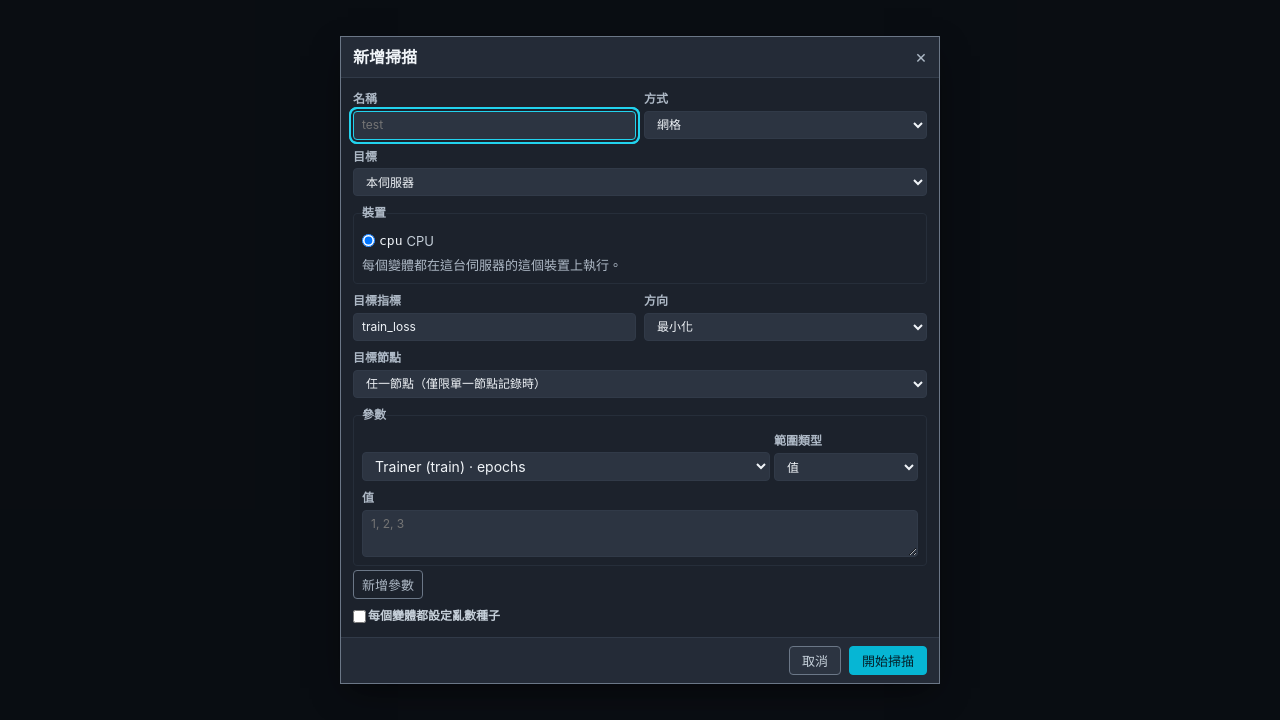
Scenario: NewSweepDialog › words its validation in the active language
The width and height of the screenshot is (1280, 720).
Type "2.5" into the text box labelled "值" at (640, 533), box [362,510,918,557]
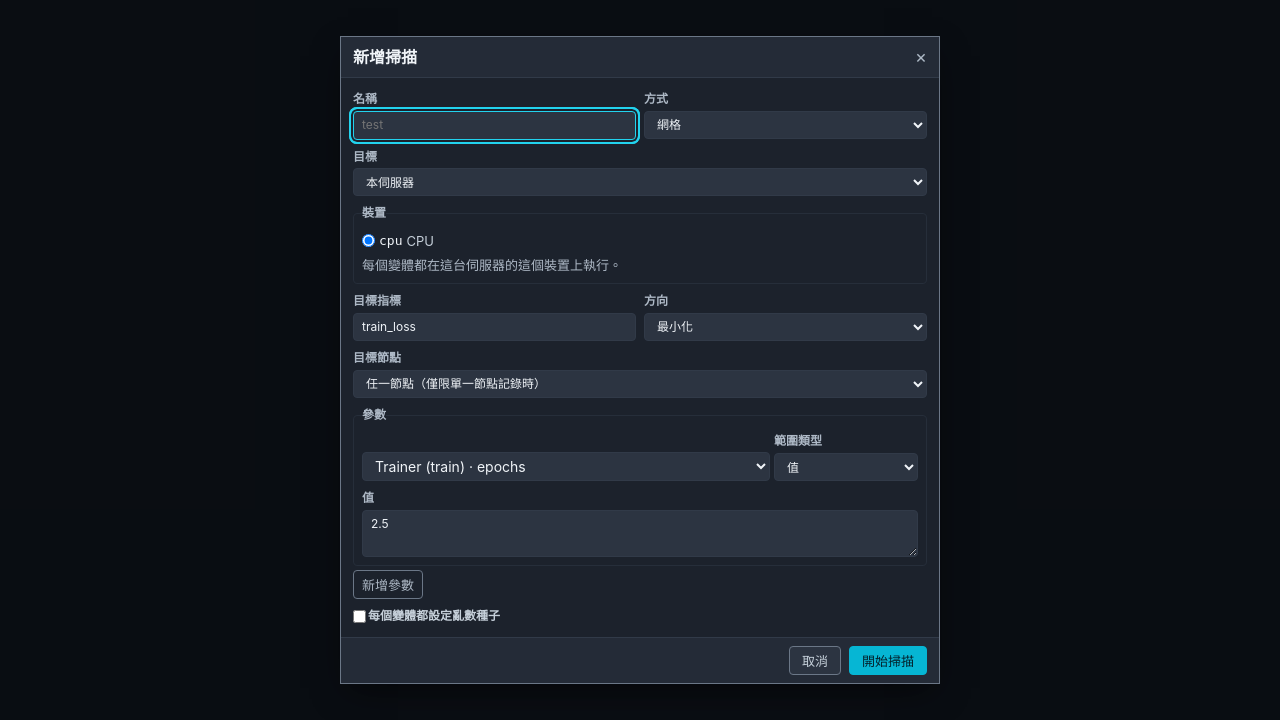
Click the button "開始掃描" at (888, 661), box [849,646,927,675]
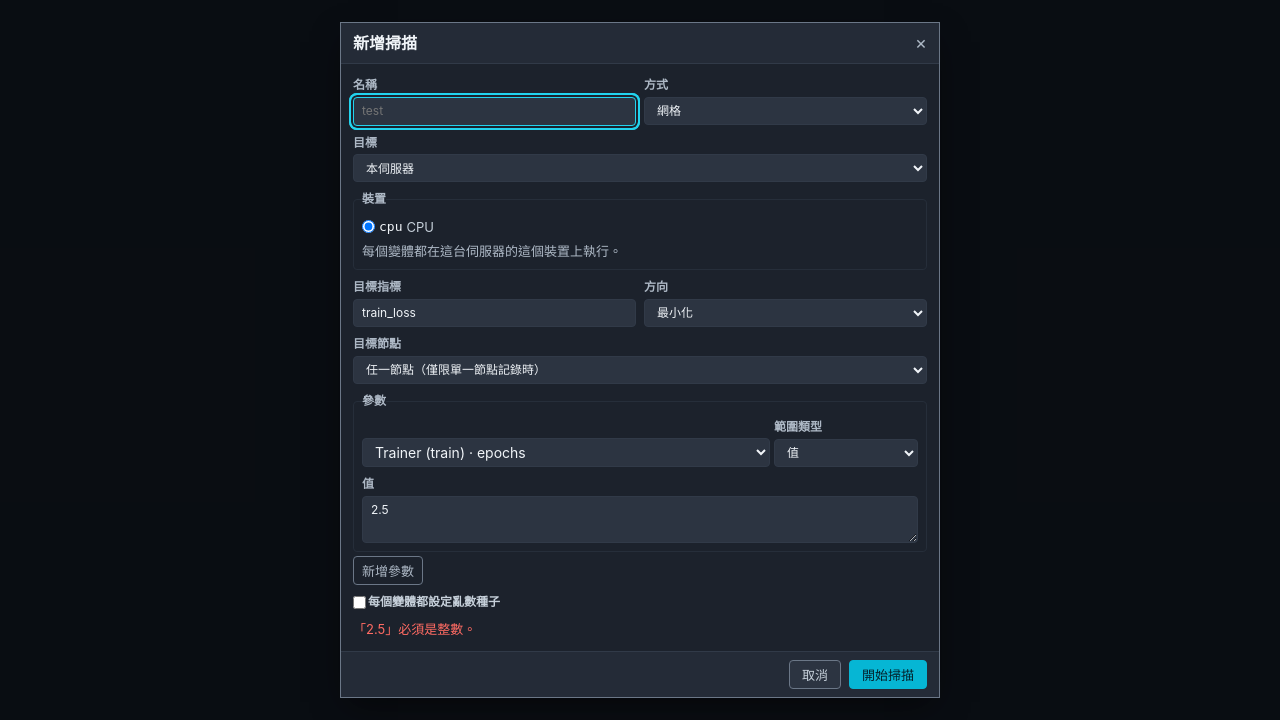
Expected: the message reads "「2.5」必須是整數。", [353,621,476,637]
